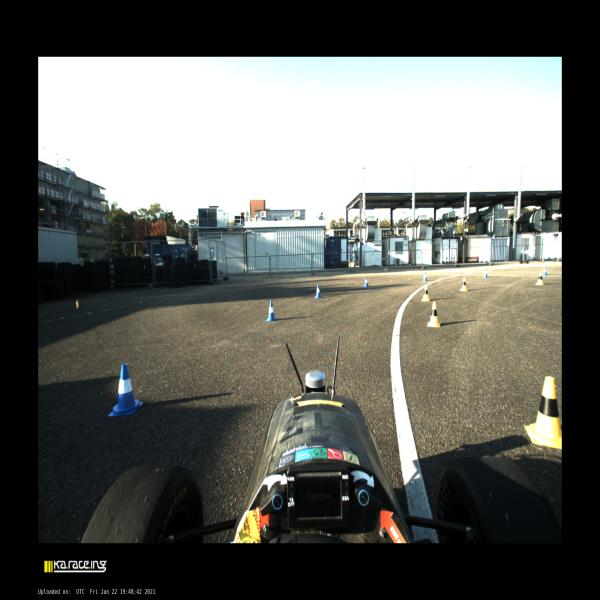blue_cone: (108, 364, 143, 416), (266, 300, 276, 321), (314, 284, 321, 298), (362, 276, 370, 288), (482, 268, 489, 278), (542, 265, 548, 276), (423, 272, 428, 281)
yellow_cone: (524, 376, 562, 449), (427, 302, 441, 327), (421, 285, 430, 301), (460, 278, 468, 292), (536, 271, 544, 285)
